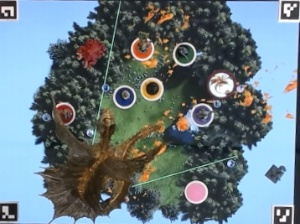blue: (111, 82, 138, 110)
green: (170, 39, 197, 68)
orange: (131, 34, 156, 60)
pink: (180, 177, 211, 204)
red: (51, 100, 78, 124)
violet: (188, 102, 219, 128)
yellow: (140, 74, 165, 101)
